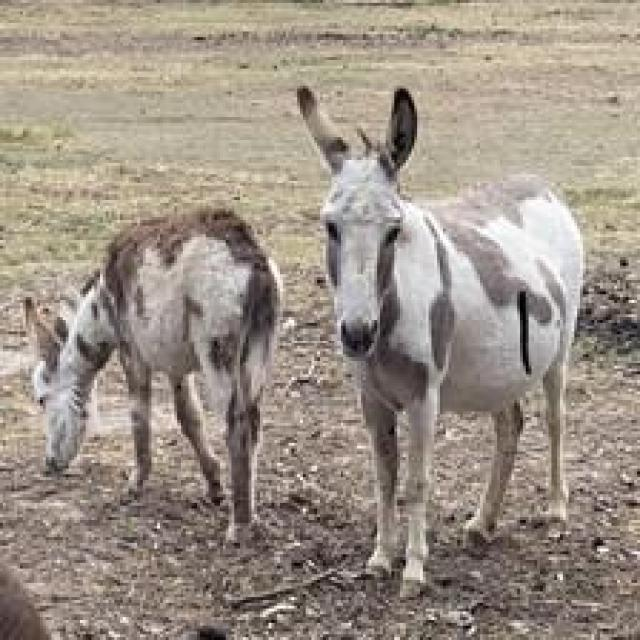Donkey: (294, 83, 586, 597), (20, 203, 283, 543), (0, 537, 229, 637), (0, 537, 57, 637)
